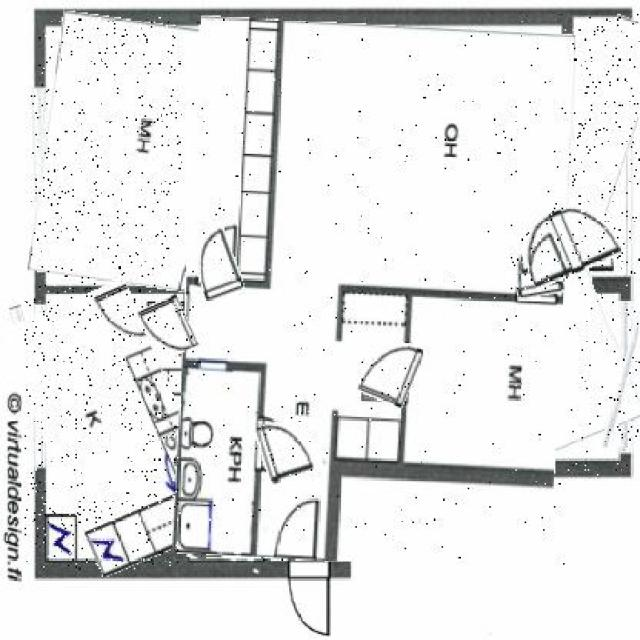door: (517, 202, 618, 282), (358, 337, 418, 405), (511, 226, 563, 297), (191, 226, 240, 300), (258, 419, 312, 483), (141, 297, 194, 358)
window: (22, 304, 58, 468), (612, 300, 640, 448), (30, 88, 48, 266), (561, 37, 577, 211)
zone: (180, 20, 569, 566), (36, 17, 272, 294), (23, 288, 205, 570), (400, 275, 634, 477), (552, 14, 640, 275), (188, 374, 268, 558)
